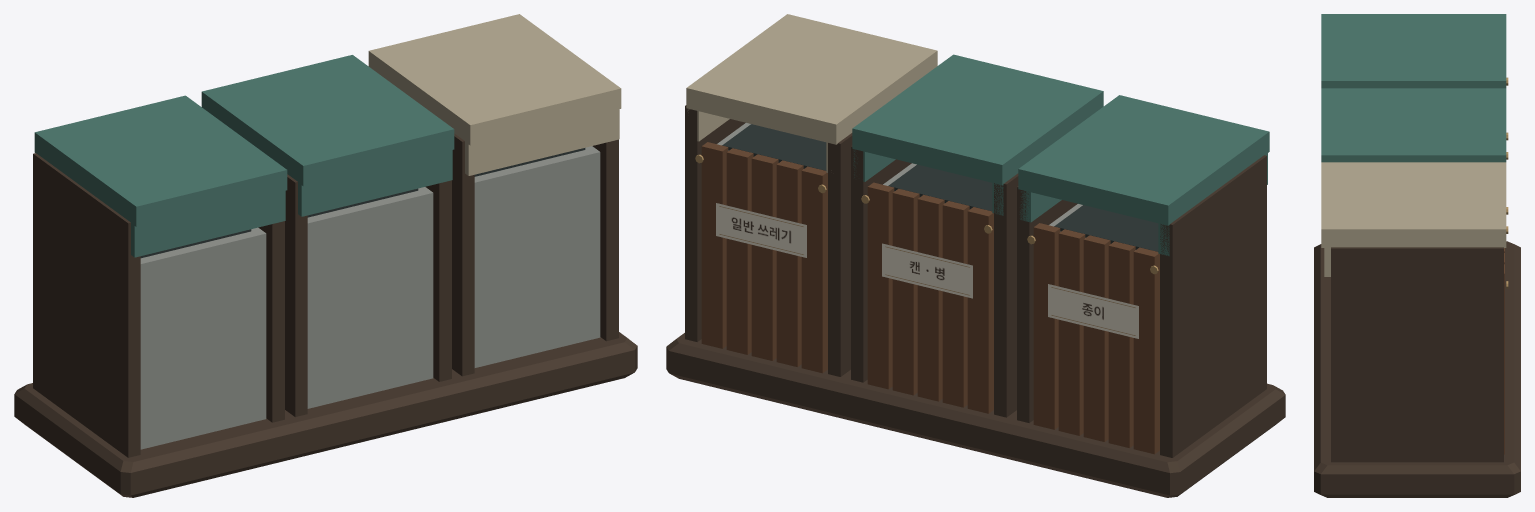
Rendered from W08_Three_Waste_Bins.fbx.
3 renders of one model, left to right at view 1: azimuth 30°, elevation 25°; view 2: azimuth 150°, elevation 25°; view 3: azimuth 270°, elevation 25°, orthographic. The views are drawn at different scales.
Visible parts, largest first — view 1: Bin_1, Bin_3, Bin_2, Bin_Base; view 2: Bin_1, Bin_2, Bin_3, Bin_Base, Front_Bin_1, Front_Bin_2, Front_Bin_3; view 3: Bin_3, Bin_Base, Bin_1, Bin_2.
Part boxes in pixels (<box>): Bin_1: <box>33,95,287,457</box>; Bin_3: <box>368,14,621,376</box>; Bin_2: <box>201,55,454,416</box>; Bin_Base: <box>14,332,637,497</box>; Bin_1: <box>1017,95,1269,457</box>; Bin_2: <box>851,54,1103,417</box>; Bin_3: <box>685,14,937,376</box>; Bin_Base: <box>666,333,1285,497</box>; Front_Bin_1: <box>1048,284,1138,338</box>; Front_Bin_2: <box>882,243,972,298</box>; Front_Bin_3: <box>716,203,806,257</box>; Bin_3: <box>1321,162,1506,462</box>; Bin_Base: <box>1314,241,1520,497</box>; Bin_1: <box>1321,14,1506,88</box>; Bin_2: <box>1321,88,1506,162</box>.
Bounding box in the file's own units: 2.26 × 1.21 × 0.86.
8 materials, 1 textured.
